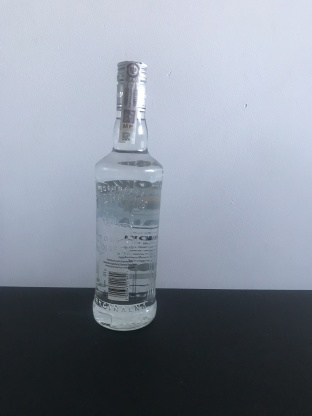nakretka: (114, 57, 149, 115)
